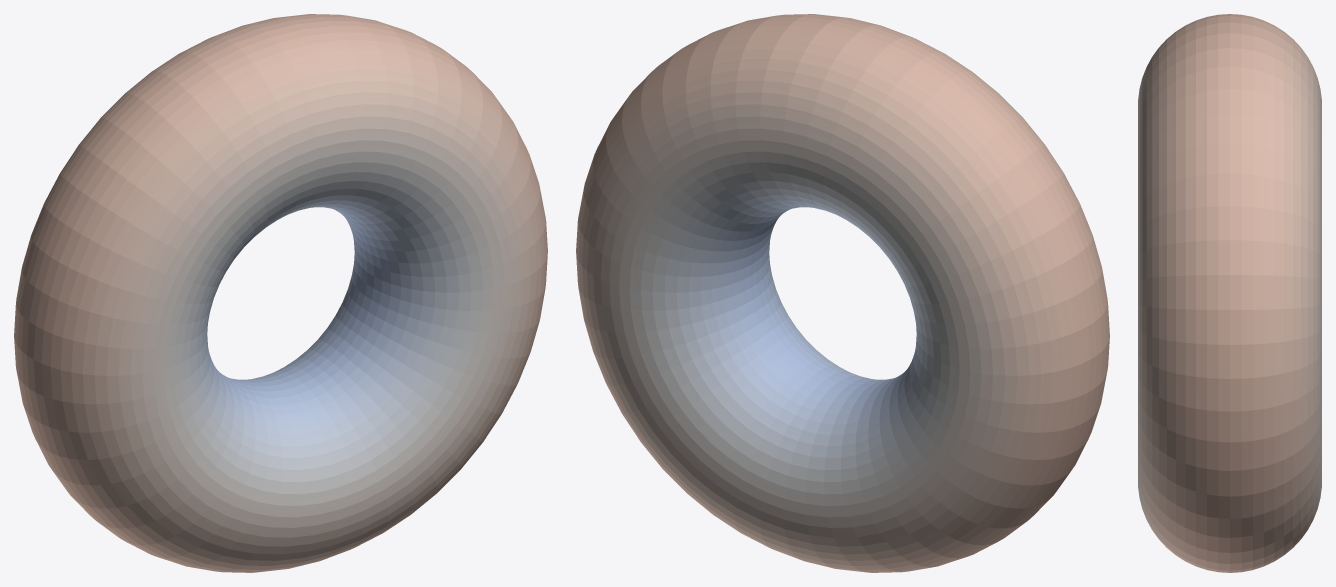
3 renders of one model, left to right at view 1: azimuth 30°, elevation 25°; view 2: azimuth 150°, elevation 25°; view 3: azimuth 270°, elevation 25°, orthographic. The views are drawn at different scales.
Parts seen in each view (by area): view 1: world; view 2: world; view 3: world.
Part boxes in pixels (x1,y1,x2,y2): world: (14,14,547,572); world: (576,14,1109,572); world: (1138,14,1321,572).
Bounding box in the file's own units: 23.87 × 23.82 × 7.85.
